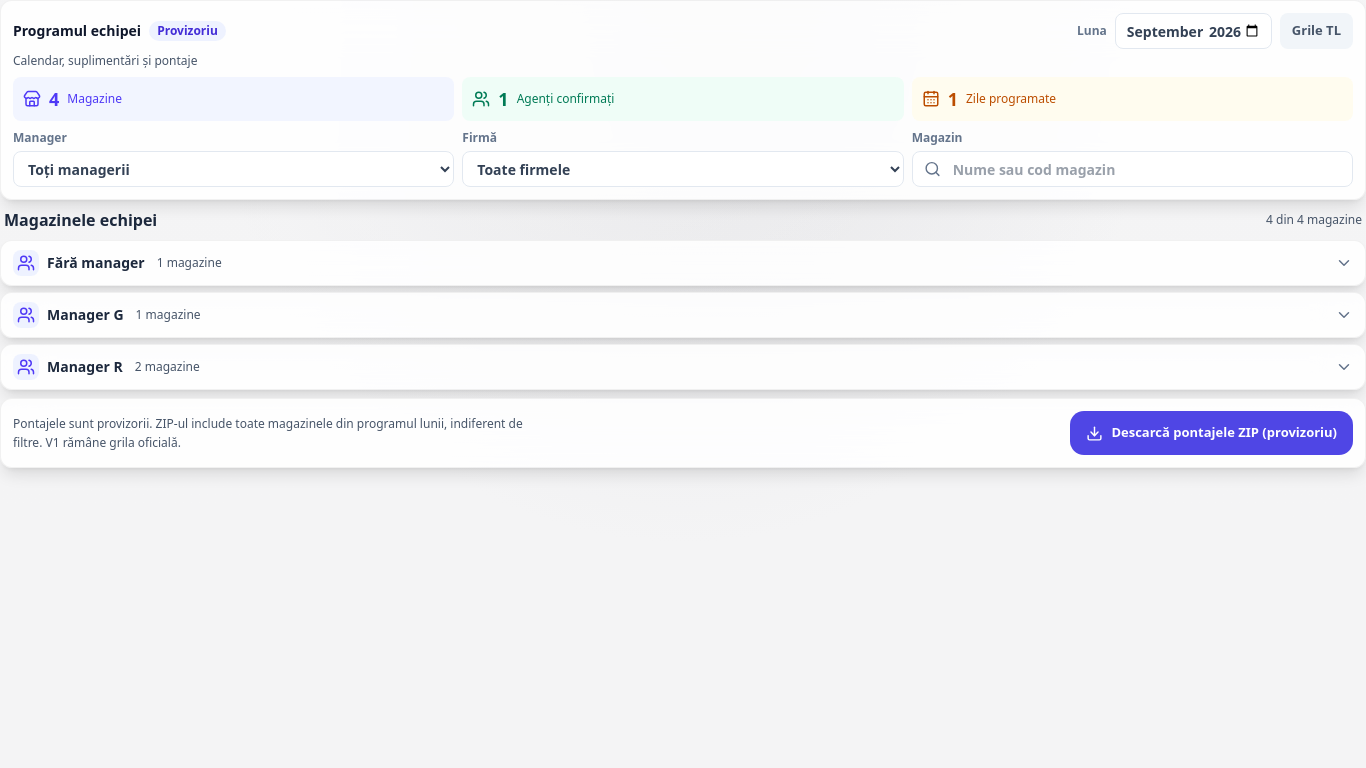
Test: filters managers, companies and stores without changing the monthly export scope
Select "Manager R" in the dropdown named "Manager program" at [234, 169], box top-left (13, 151), bottom-right (454, 187)
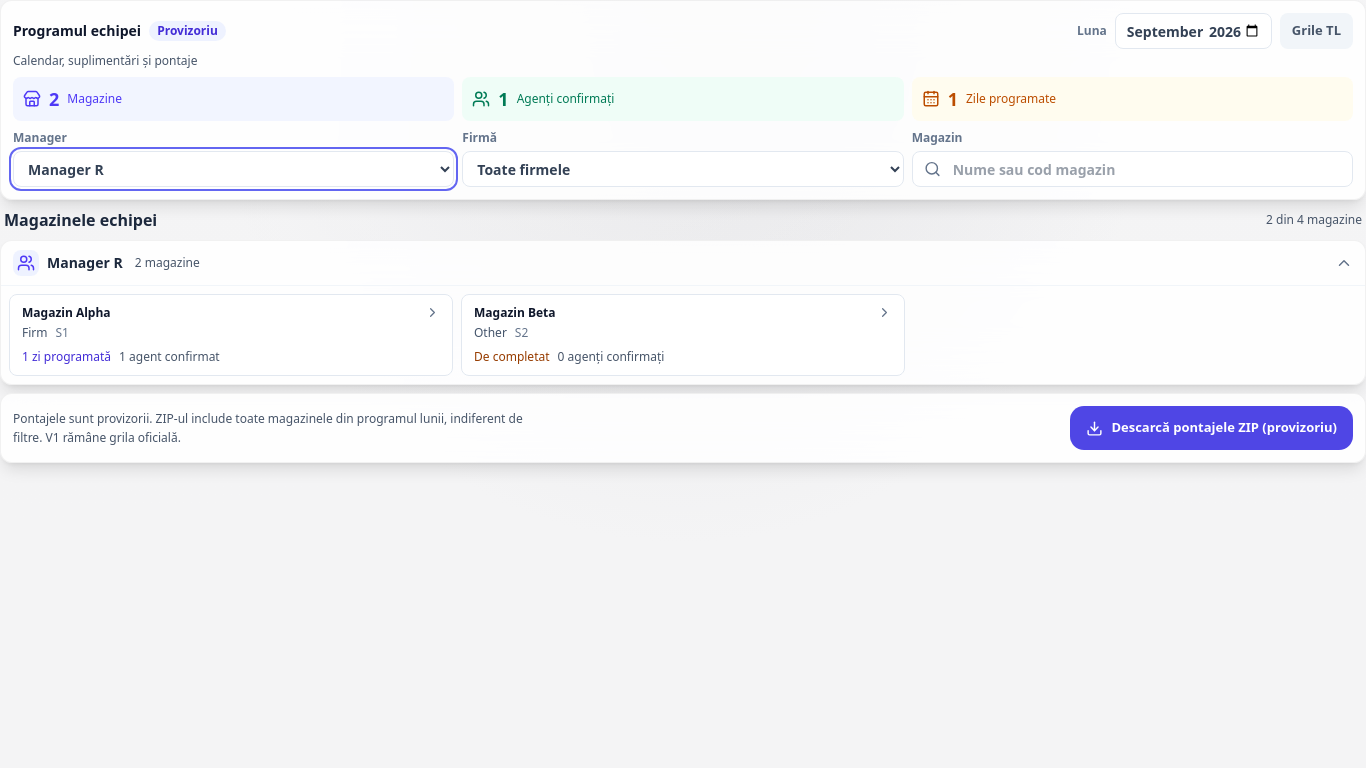
Expected: the button "Magazin Alpha Firm S1 1 zi programată 1 agent confirmat" is shown, top-left (9, 294), bottom-right (453, 376)
Select "Other" in the dropdown named "Firmă program" at [683, 169], box top-left (462, 151), bottom-right (904, 187)
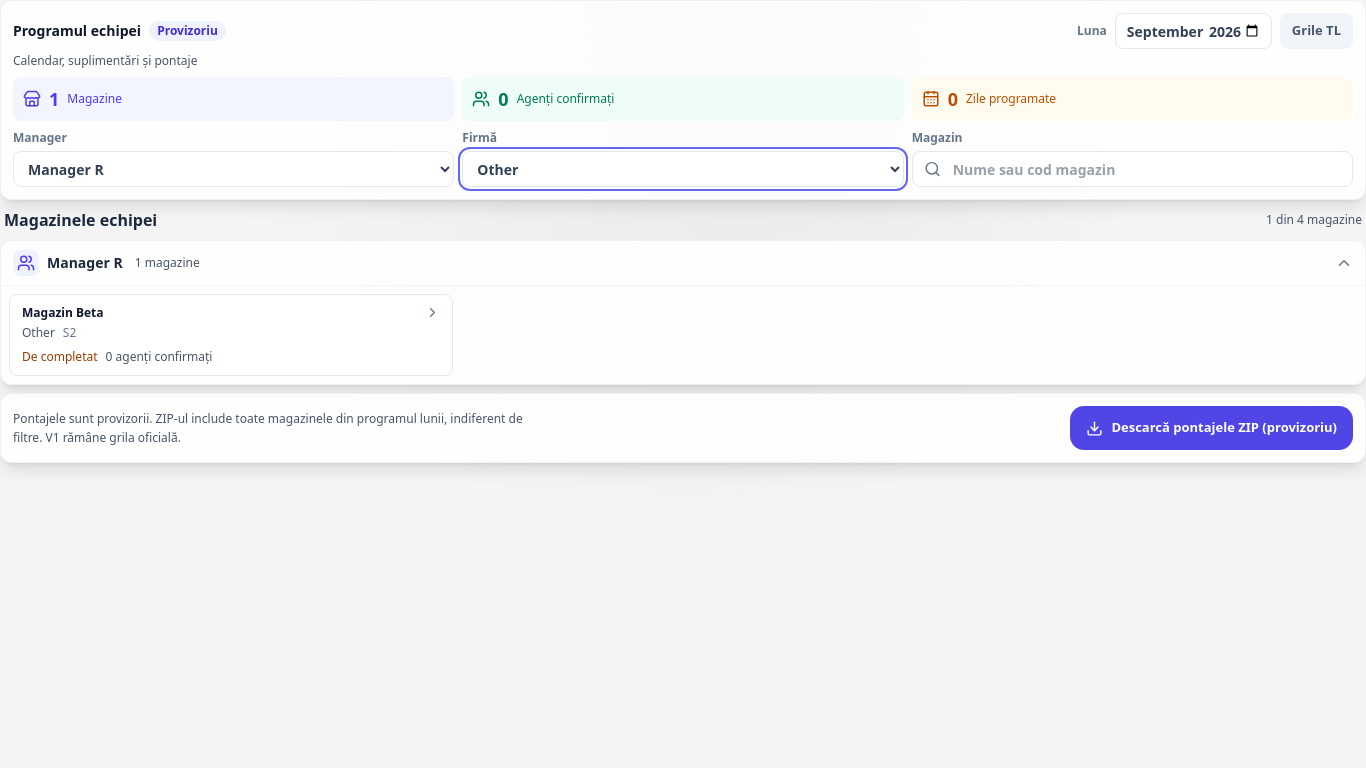
Expected: the button "Magazin Beta Other S2 De completat 0 agenți confirmați" is shown, top-left (9, 294), bottom-right (453, 376)
Expected: the button "Magazin Alpha" is gone
Click the button "Descarcă pontajele ZIP (provizoriu)" at [1212, 428], box top-left (1070, 406), bottom-right (1353, 450)
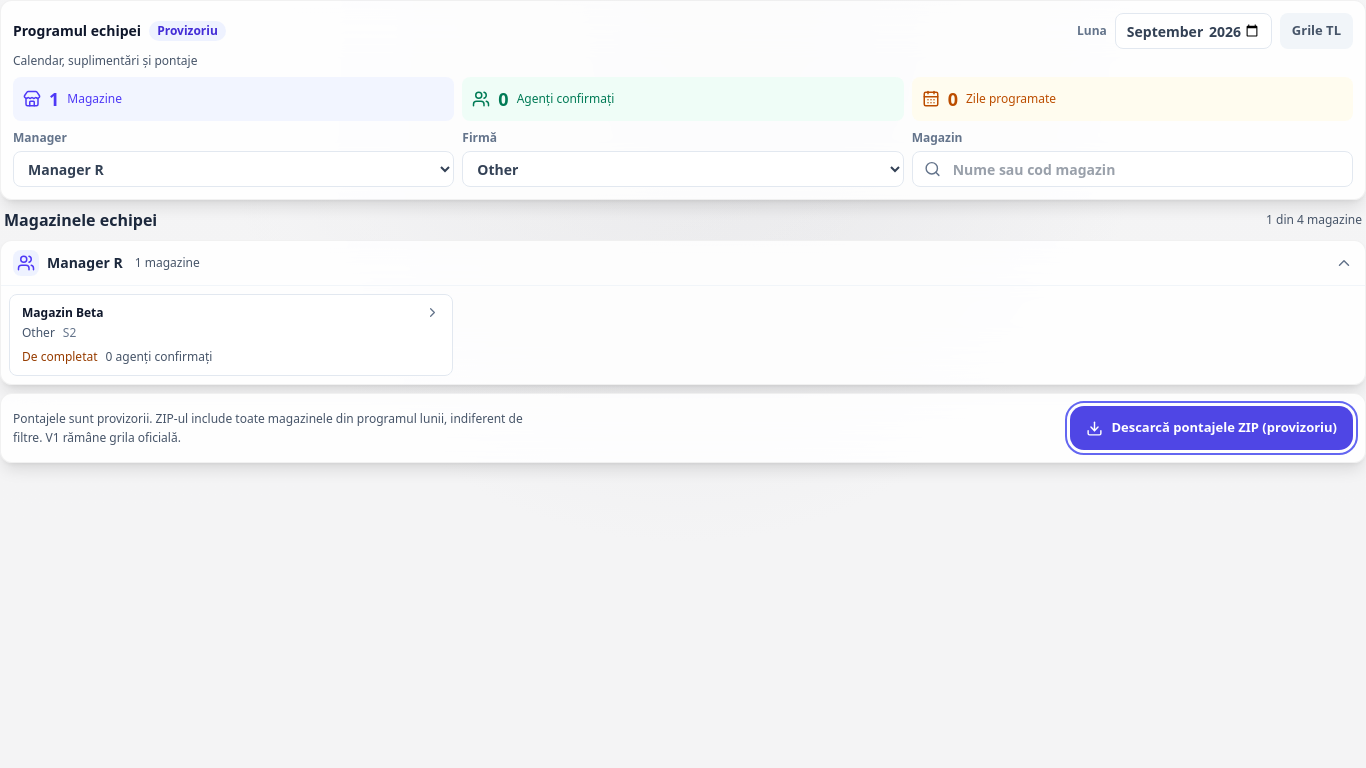
Type "missing" into the search field named "Caută magazin" at [1132, 169], box top-left (912, 151), bottom-right (1353, 187)
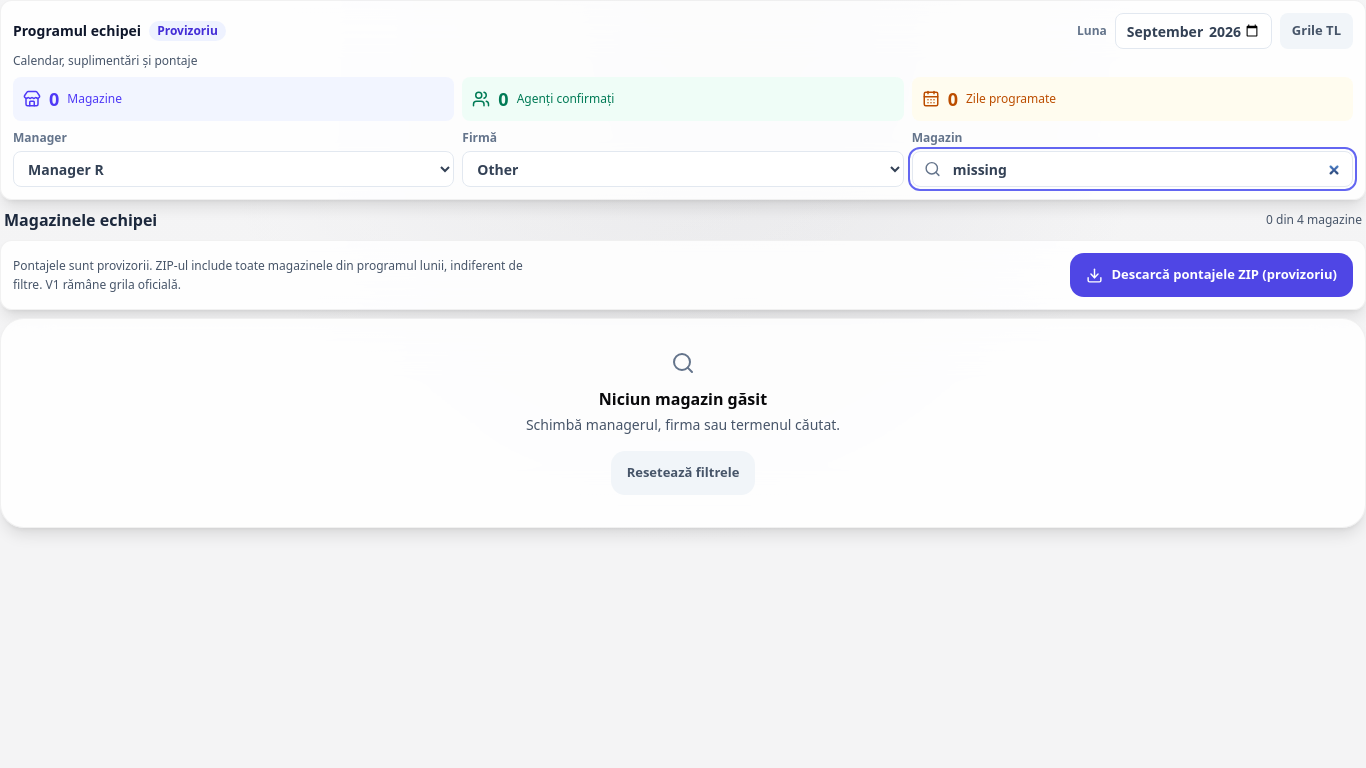
Expected: the heading "Niciun magazin găsit" is shown, top-left (599, 388), bottom-right (767, 410)
Click the button "Resetează filtrele" at [683, 473], box top-left (611, 451), bottom-right (755, 495)
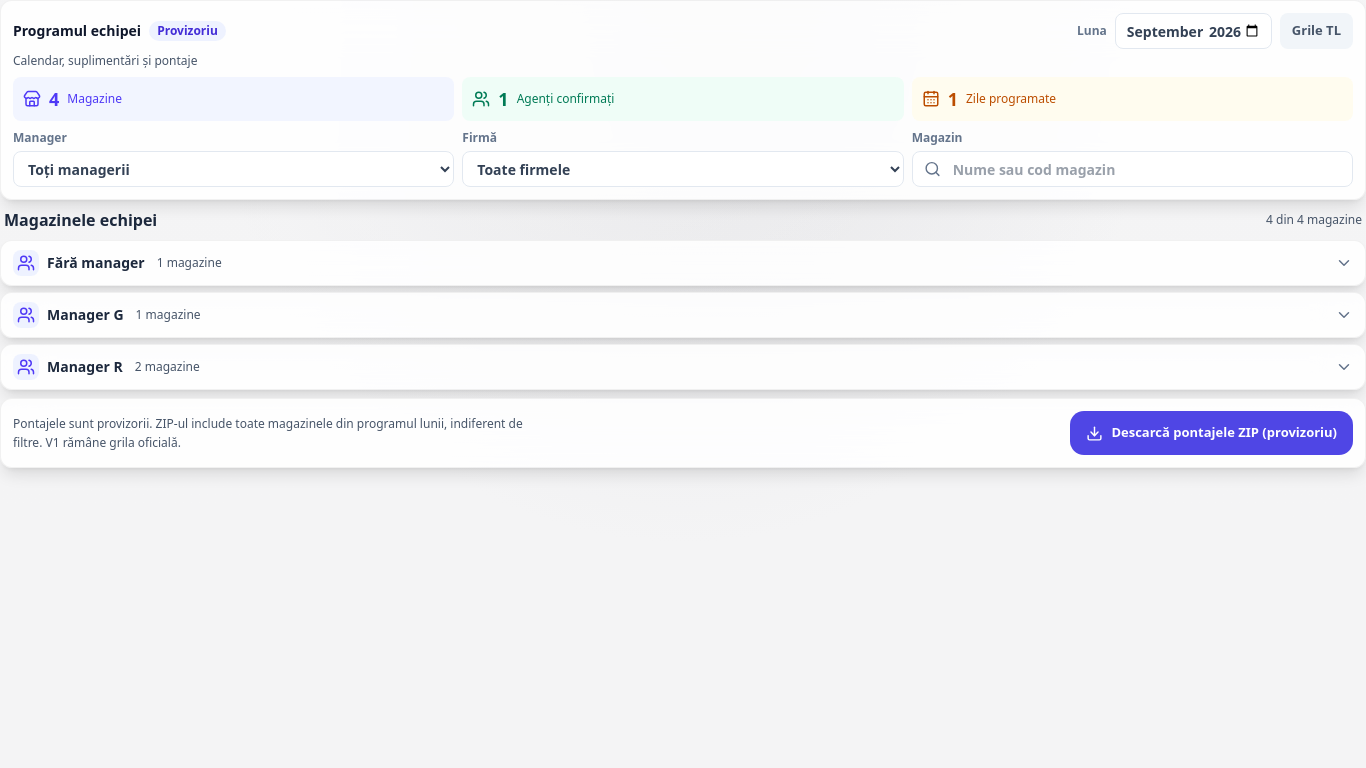
Select "Fără manager" in the dropdown named "Manager program" at [234, 169], box top-left (13, 151), bottom-right (454, 187)
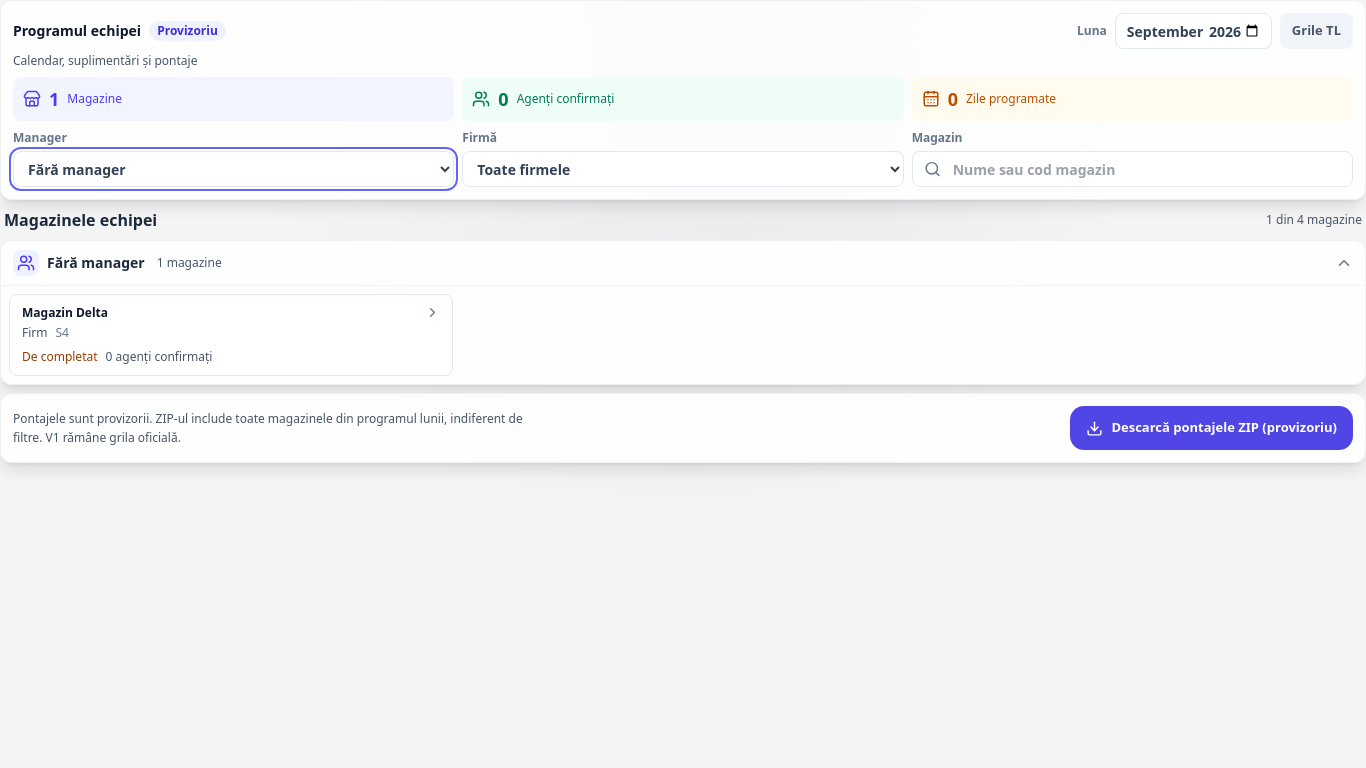
Expected: the button "Magazin Delta Firm S4 De completat 0 agenți confirmați" is shown, top-left (9, 294), bottom-right (453, 376)
